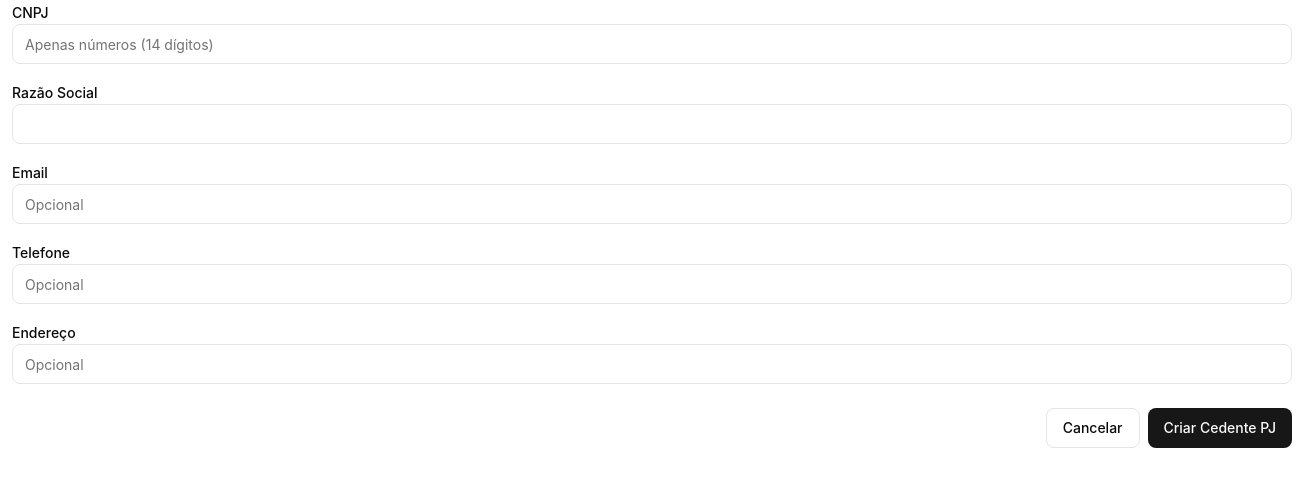
Test: CedentePjForm › shows CNPJ format validation on submit with wrong input
Type "123" into the field labelled "CNPJ" at (652, 44), box [12,24,1292,64]
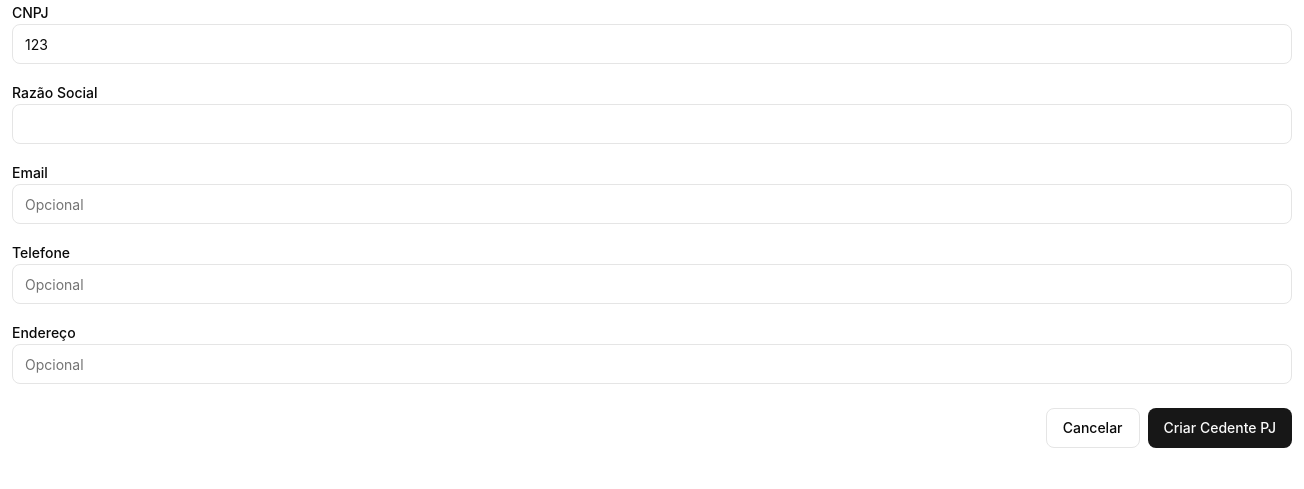
Type "SA" into the field labelled "Razão Social" at (652, 124), box [12,104,1292,144]
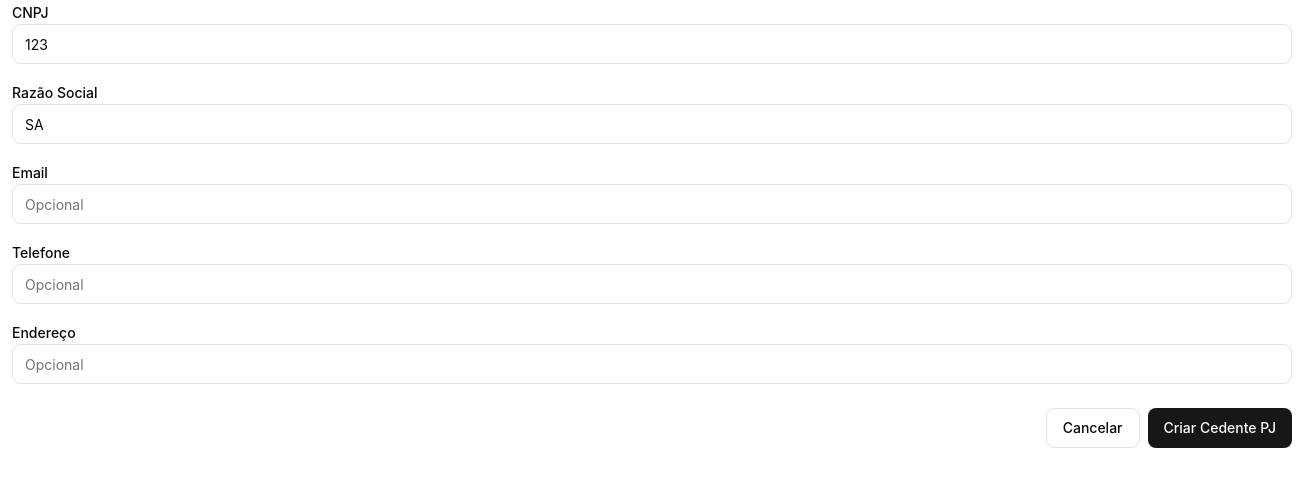
Click the button "Criar Cedente PJ" at (1220, 428), box [1148,408,1292,448]
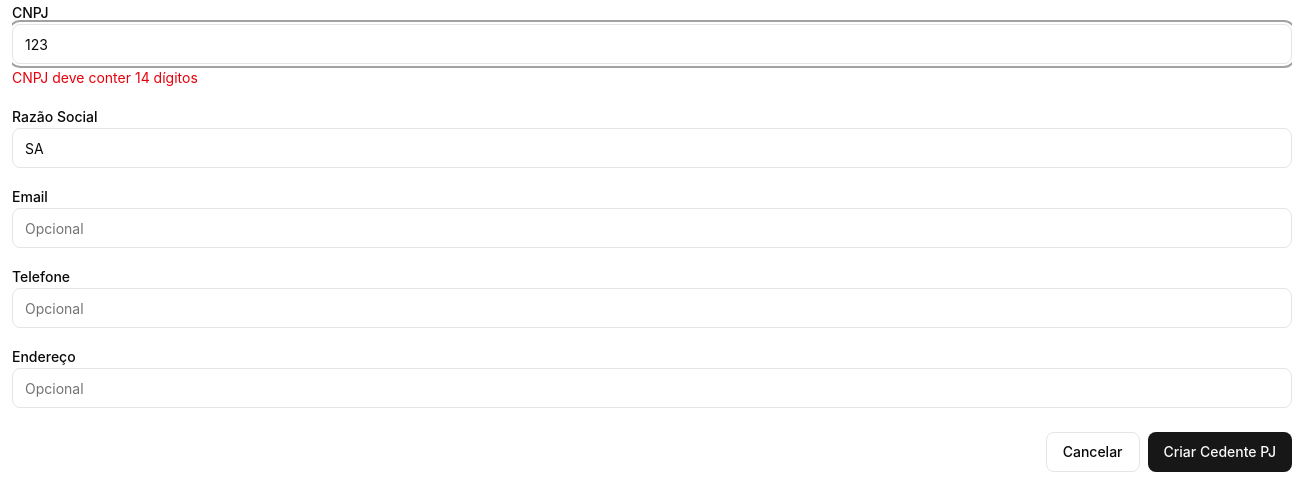
Check: the text "CNPJ deve conter 14 dígitos" is shown, box [12,69,198,86]
